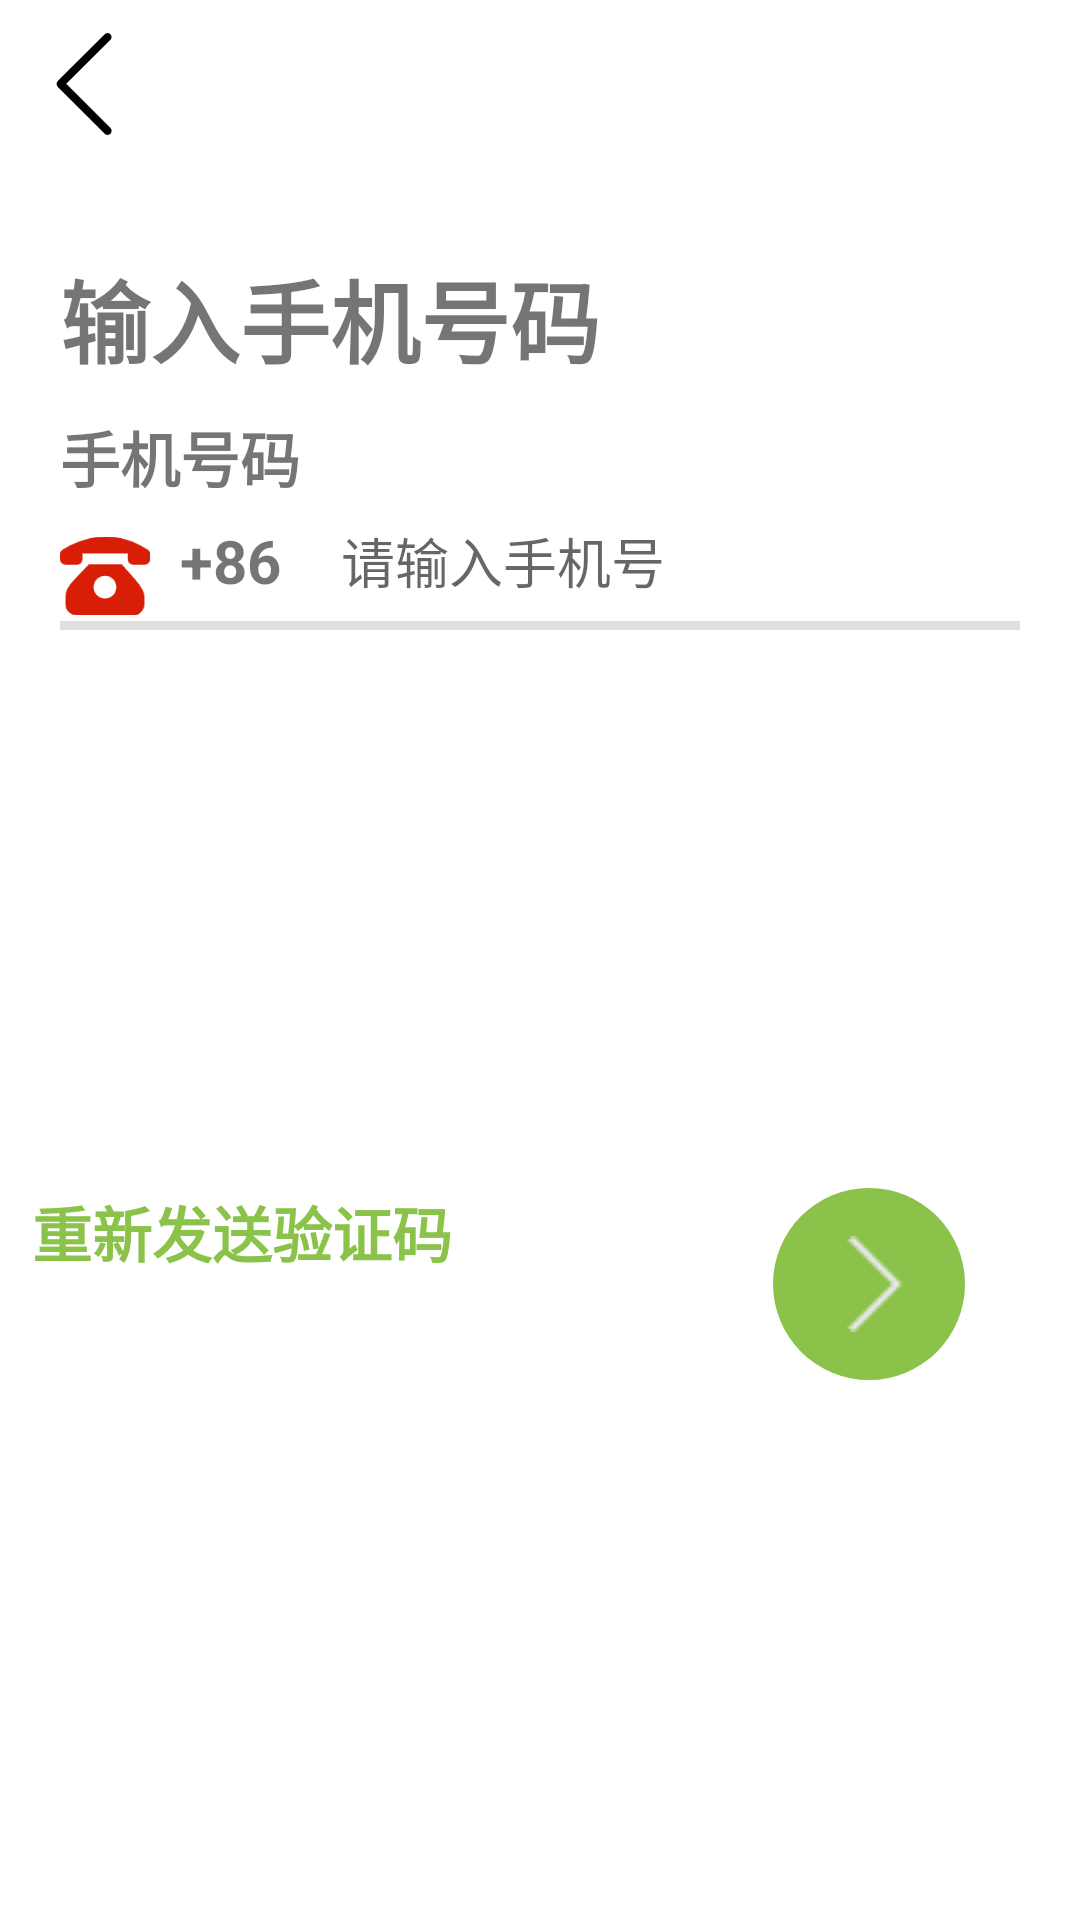

Named icons in this screenshot (1080*1920) and their centers, point (x, y):
phone login: point (105, 576)
right arrow: point (869, 1284)
